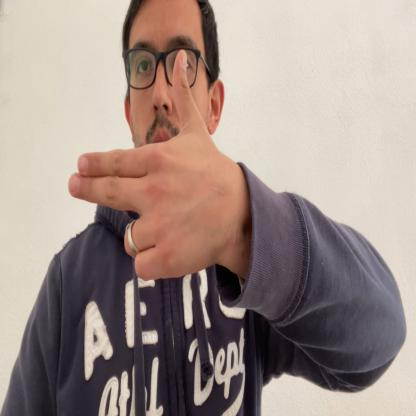H: (66, 48, 242, 280)
